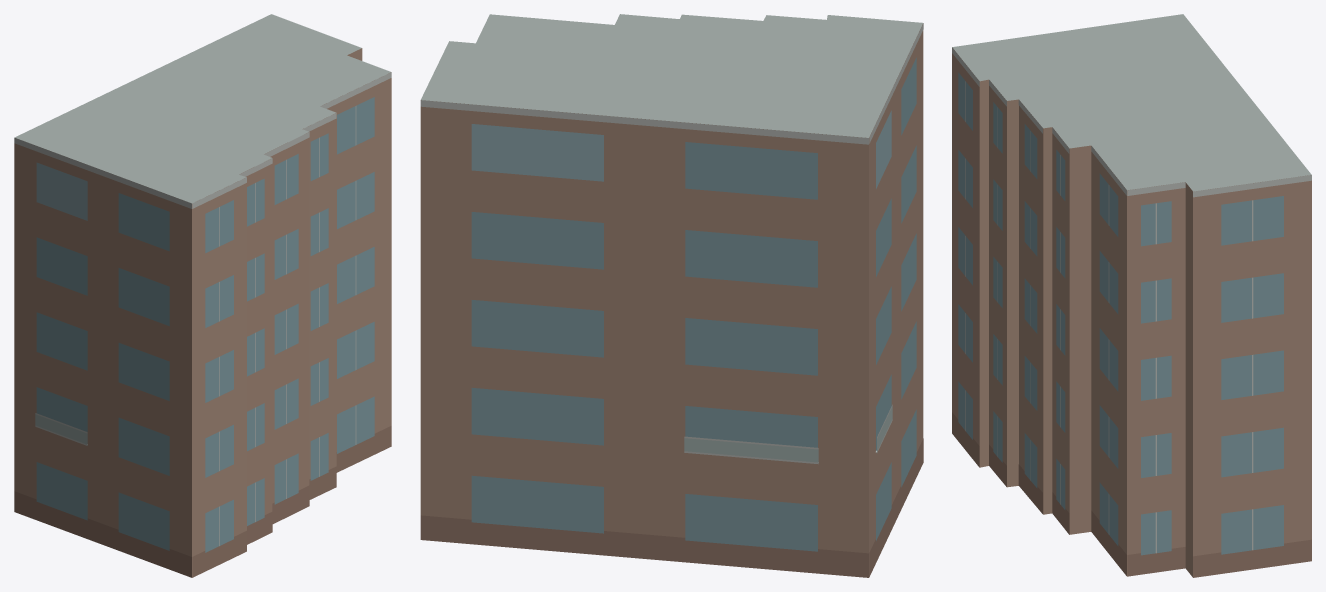
The model's file is survey-upis-32593154.glb.
3 renders of one model, left to right at view 1: azimuth 30°, elevation 25°; view 2: azimuth 150°, elevation 25°; view 3: azimuth 270°, elevation 25°, orthographic. The views are drawn at different scales.
Parts seen in each view (by area): view 1: survey-upis-32593154.tmp; view 2: survey-upis-32593154.tmp; view 3: survey-upis-32593154.tmp.
Part boxes in pixels (x1,y1,x2,y2): survey-upis-32593154.tmp: (14, 14, 391, 577); survey-upis-32593154.tmp: (420, 14, 923, 577); survey-upis-32593154.tmp: (952, 14, 1311, 577).
Bounding box in the file's own units: 15.88 × 16.1 × 13.6.
